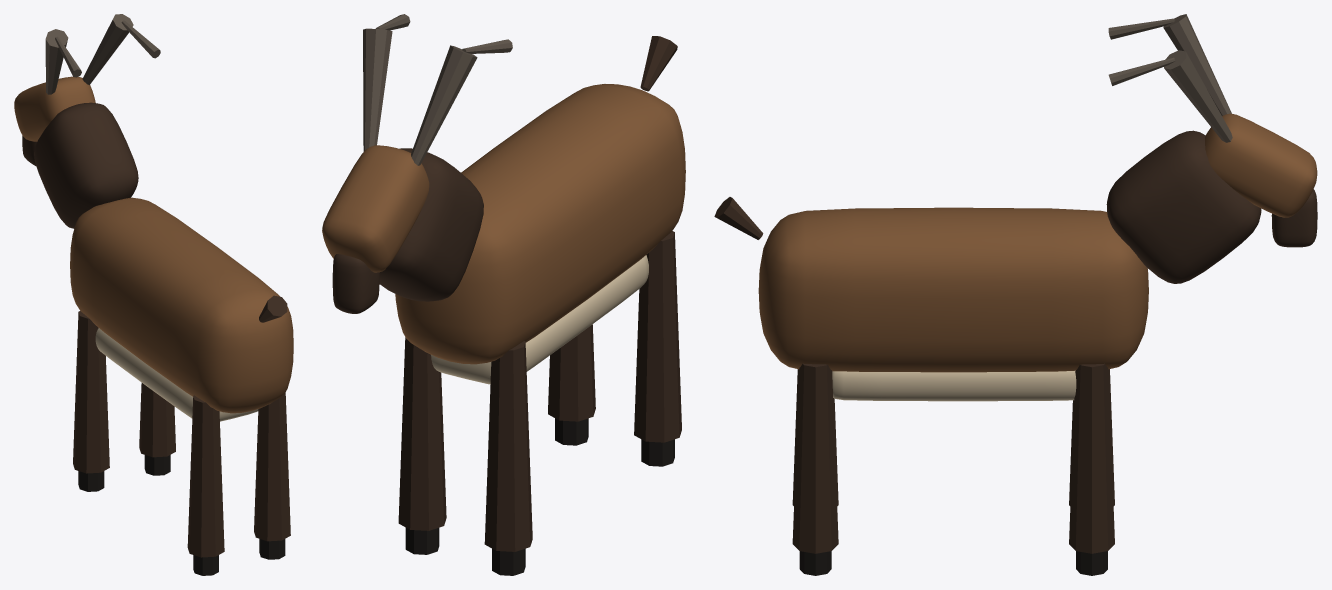
The model's file is goat.glb.
The picture shows the model from 3 angles, left to right: view 1: azimuth 30°, elevation 25°; view 2: azimuth 150°, elevation 25°; view 3: azimuth 270°, elevation 25°; orthographic projection. The views are drawn at different scales.
Parts seen in each view (by area): view 1: goat; view 2: goat; view 3: goat.
Part boxes in pixels (x1,y1,x2,y2): goat: [14, 14, 293, 575]; goat: [322, 14, 685, 575]; goat: [714, 14, 1317, 575].
Bounding box in the file's own units: 0.3 × 1.24 × 1.31.
